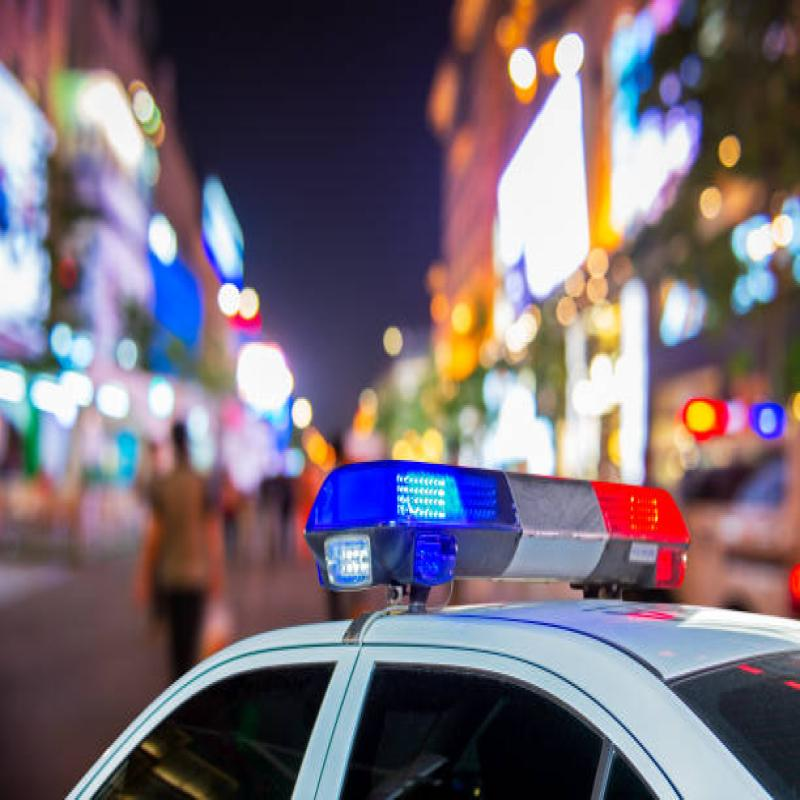AmbulanceSiren: (298, 434, 701, 608)
